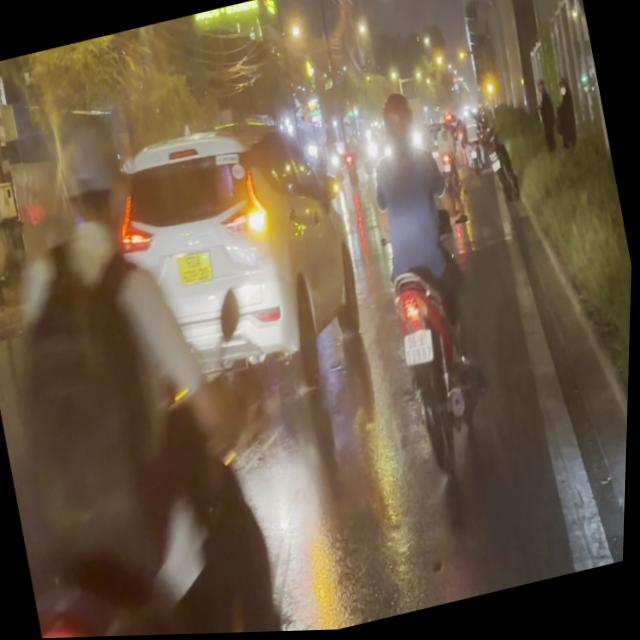helmet: (45, 114, 137, 240), (375, 87, 423, 156)
licenseplate: (0, 82, 351, 640), (338, 75, 515, 499)
nohelmet: (402, 330, 438, 367)
